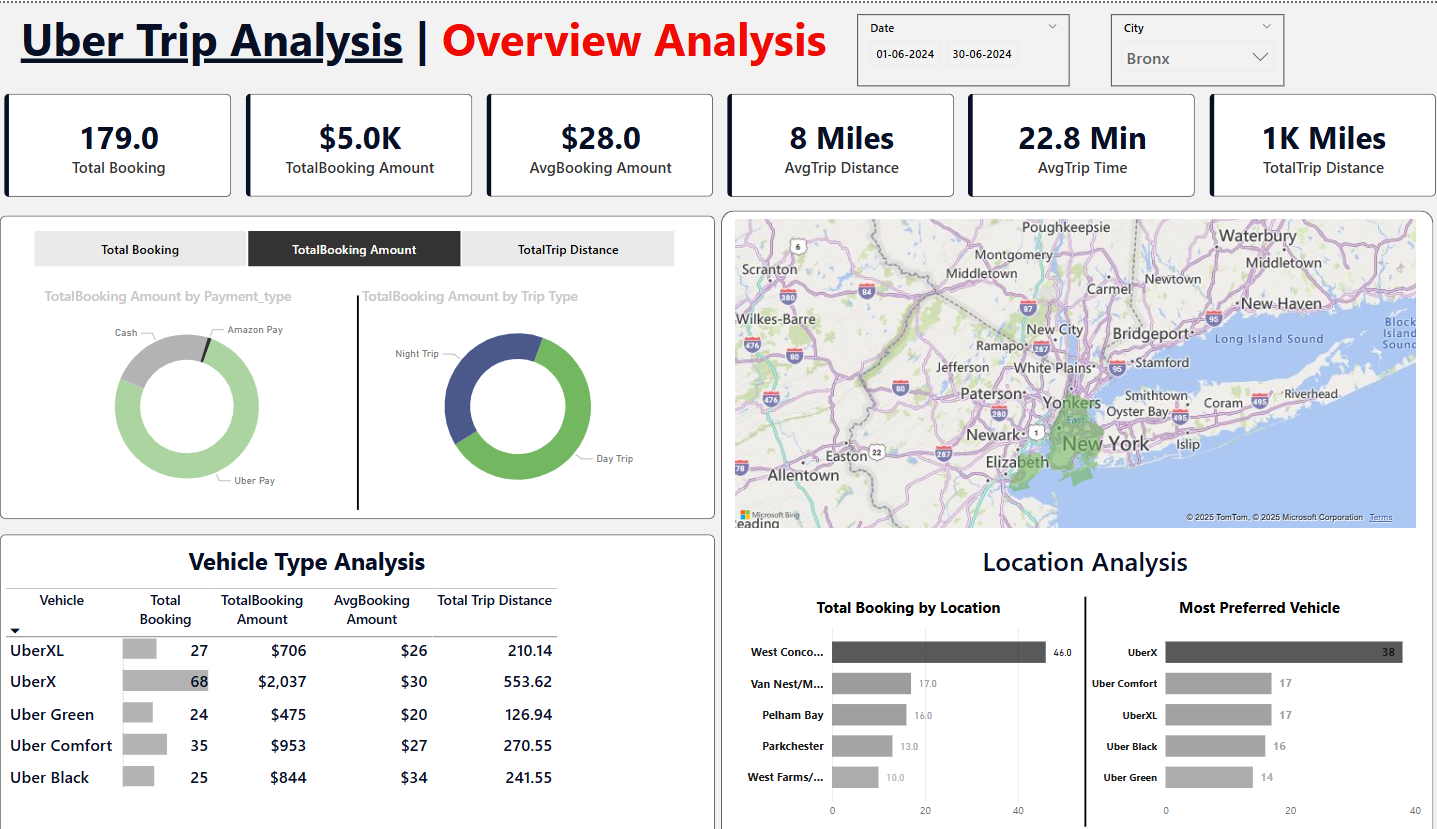

The dashboard page shown, as its layout file describes it:
{"tool":"powerbi","page":{"name":"OverViewAnalysis","canvas":[1600,900],"ordinal":0},"visuals":[{"type":"shape","box":[36,226.4,763.3,324.2],"z":0},{"type":"textbox","box":[35.7,0,904.3,101.4],"z":1000},{"type":"cardVisual","fields":{"Data":["Trip Details.Total Booking","Trip Details.TotalBooking Amount","Trip Details.AvgBooking Amount","Trip Details.AvgTrip Distance","Trip Details.AvgTrip Time","Trip Details.TotalTrip Distance"]},"box":[36,92.6,1540.3,120.1],"z":2000},{"type":"slicer","fields":{"Values":["Dynamic measure.Dynamic measure"]},"box":[47.1,235.7,732.9,51.4],"z":3000},{"type":"donutChart","fields":{"Y":["Trip Details.TotalBooking Amount"],"Category":["Trip Details.Payment_type"]},"box":[78.6,301.4,314.3,238.6],"z":4000},{"type":"donutChart","fields":{"Y":["Trip Details.TotalBooking Amount"],"Category":["Trip Details.Trip Type"]},"box":[417.1,301.4,342.9,238.6],"z":5000},{"type":"shape","box":[36,566,763.3,324.2],"z":6000},{"type":"barChart","fields":{"Category":["Trip Details.Vehicle"],"Y":["Trip Details.Total Booking","Trip Details.TotalBooking Amount","Trip Details.AvgBooking Amount","Trip Details.TotalTrip DistanceMeasure"]},"box":[35.7,618.6,762.9,271.4],"z":7000},{"type":"card","fields":{"Values":["Trip Details.Title"]},"box":[158.6,561.4,410,65.7],"z":8000},{"type":"shape","box":[805.7,221.4,760,678.6],"z":11000},{"type":"barChart","fields":{"Category":["Location Table.Location"],"Y":["Trip Details.Total Booking"]},"box":[815.7,632.9,378.6,245.7],"z":14000},{"type":"clusteredBarChart","title":"Most Preferred Vehicle","fields":{"Category":["Trip Details.Vehicle"],"Y":["CountNonNull(Trip Details.PULocationID)"]},"box":[1194.3,632.9,370,245.7],"z":15000},{"type":"shape","box":[268.6,311.4,300,228.6],"z":16000},{"type":"shape","box":[1044.6,632.9,300.2,245.3],"z":17000},{"type":"card","fields":{"Values":["Trip Details.tt"]},"box":[1064.3,561.4,260,65.7],"z":18000},{"type":"slicer","fields":{"Values":["Calendar.Date"]},"box":[950.6,11.6,226.7,77],"z":19000},{"type":"slicer","fields":{"Values":["Location Table.City"]},"box":[1220.9,11.6,184.6,77],"z":20000},{"type":"filledMap","fields":{"Category":["Location Table.City"],"Series":["Trip Details.Trip Type"]},"box":[815.7,225.7,735.7,340],"z":21000}]}

Visuals, with their boxes in screenshot pixels (x1, y1, x2, y2), scaled from the page's 1600x900 canvas onto the 1437x829 screenshot:
shape: locate(32, 209, 718, 507)
textbox: locate(32, 0, 844, 93)
cardVisual - Trip Details.Total Booking x Trip Details.TotalBooking Amount: locate(32, 85, 1416, 196)
slicer - Dynamic measure.Dynamic measure: locate(42, 217, 701, 264)
donutChart - Trip Details.TotalBooking Amount x Trip Details.Payment_type: locate(71, 278, 353, 497)
donutChart - Trip Details.TotalBooking Amount x Trip Details.Trip Type: locate(375, 278, 683, 497)
shape: locate(32, 521, 718, 820)
barChart - Trip Details.Vehicle x Trip Details.Total Booking: locate(32, 570, 717, 820)
card - Trip Details.Title: locate(142, 517, 511, 578)
shape: locate(724, 204, 1406, 828)
barChart - Location Table.Location x Trip Details.Total Booking: locate(733, 583, 1073, 809)
"Most Preferred Vehicle" clusteredBarChart: locate(1073, 583, 1405, 809)
shape: locate(241, 287, 511, 497)
shape: locate(938, 583, 1208, 809)
card - Trip Details.tt: locate(956, 517, 1189, 578)
slicer - Calendar.Date: locate(854, 11, 1057, 82)
slicer - Location Table.City: locate(1097, 11, 1262, 82)
filledMap - Location Table.City x Trip Details.Trip Type: locate(733, 208, 1393, 521)
